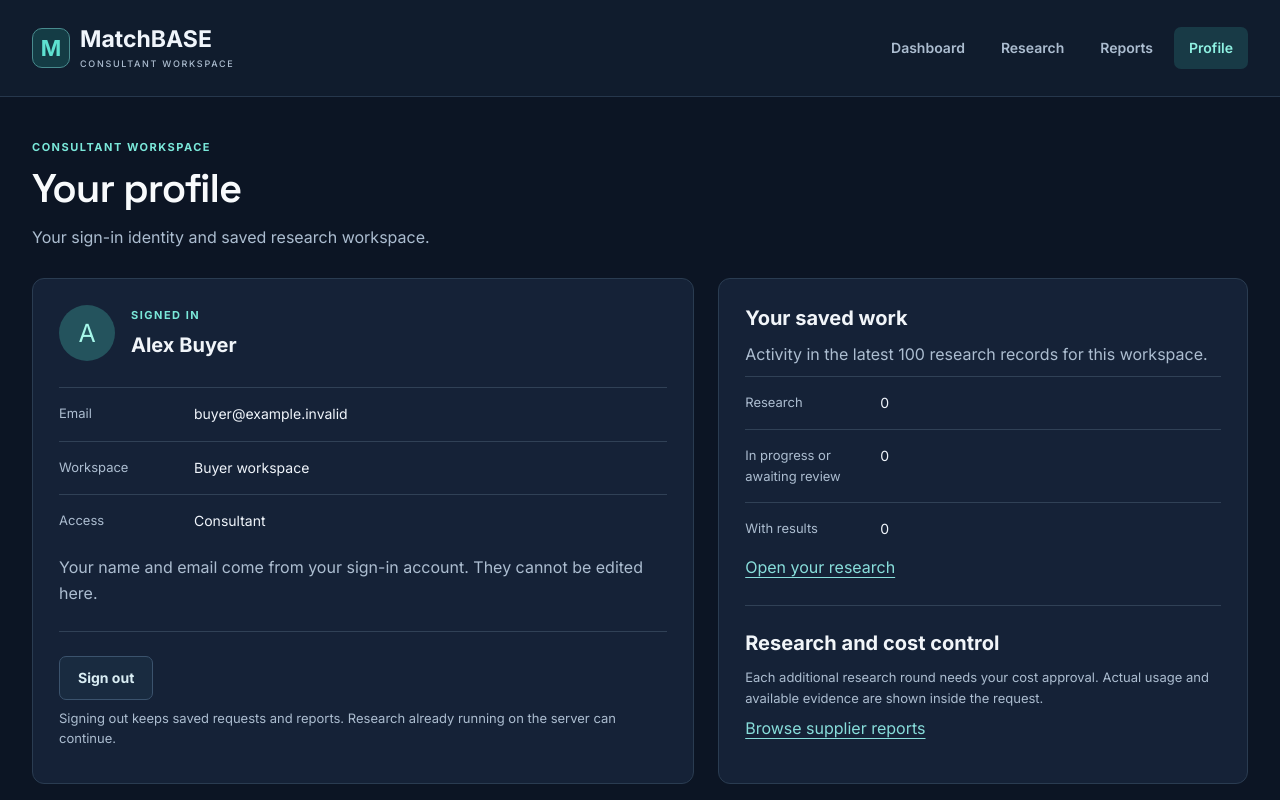
Test: MB-UX-DEV-004 L01 Consultant workspace scenarios › loads profile summaries once and sends the session protection headers when signing out
Check: the heading "Alex Buyer" is shown, box top-left (131, 332), bottom-right (237, 360)
Click the button "Sign out": (106, 678) top-left (59, 656), bottom-right (153, 700)
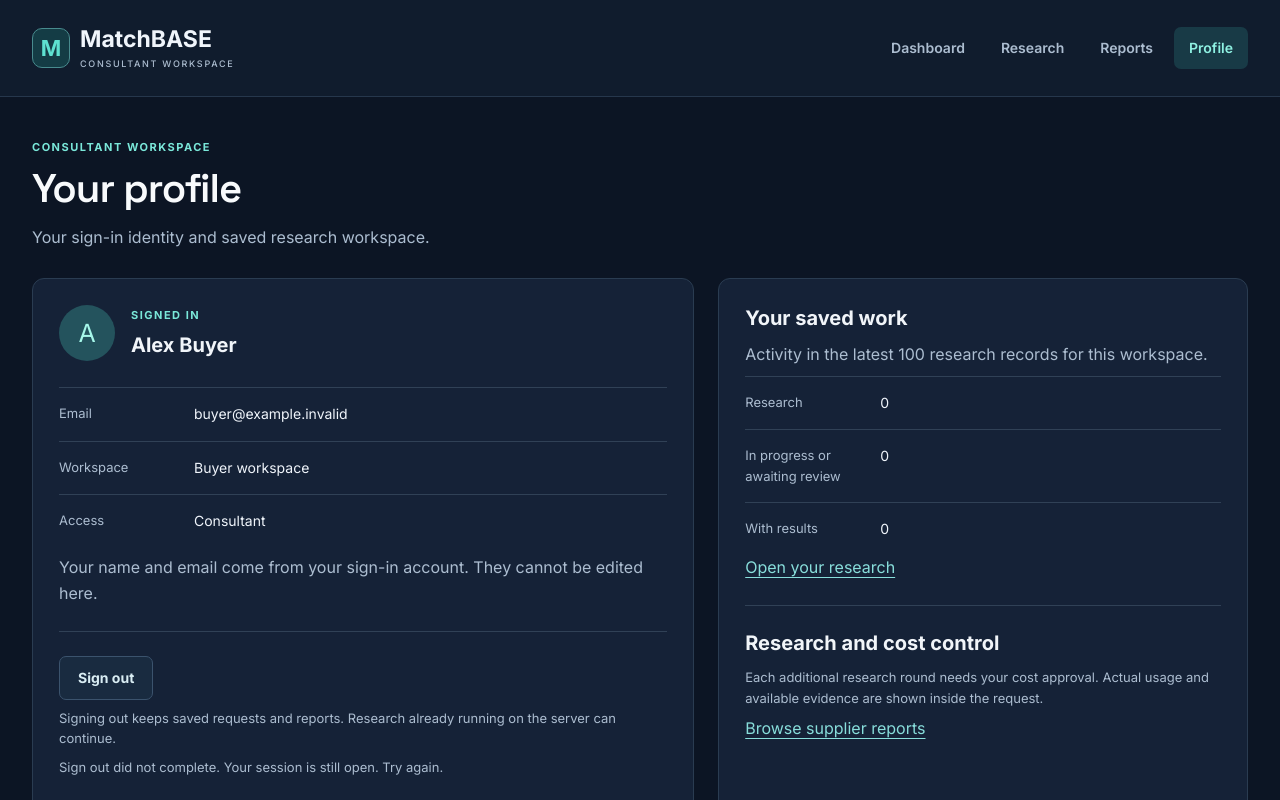
Check: the message shows "Your session is still open", box top-left (59, 759), bottom-right (443, 775)
